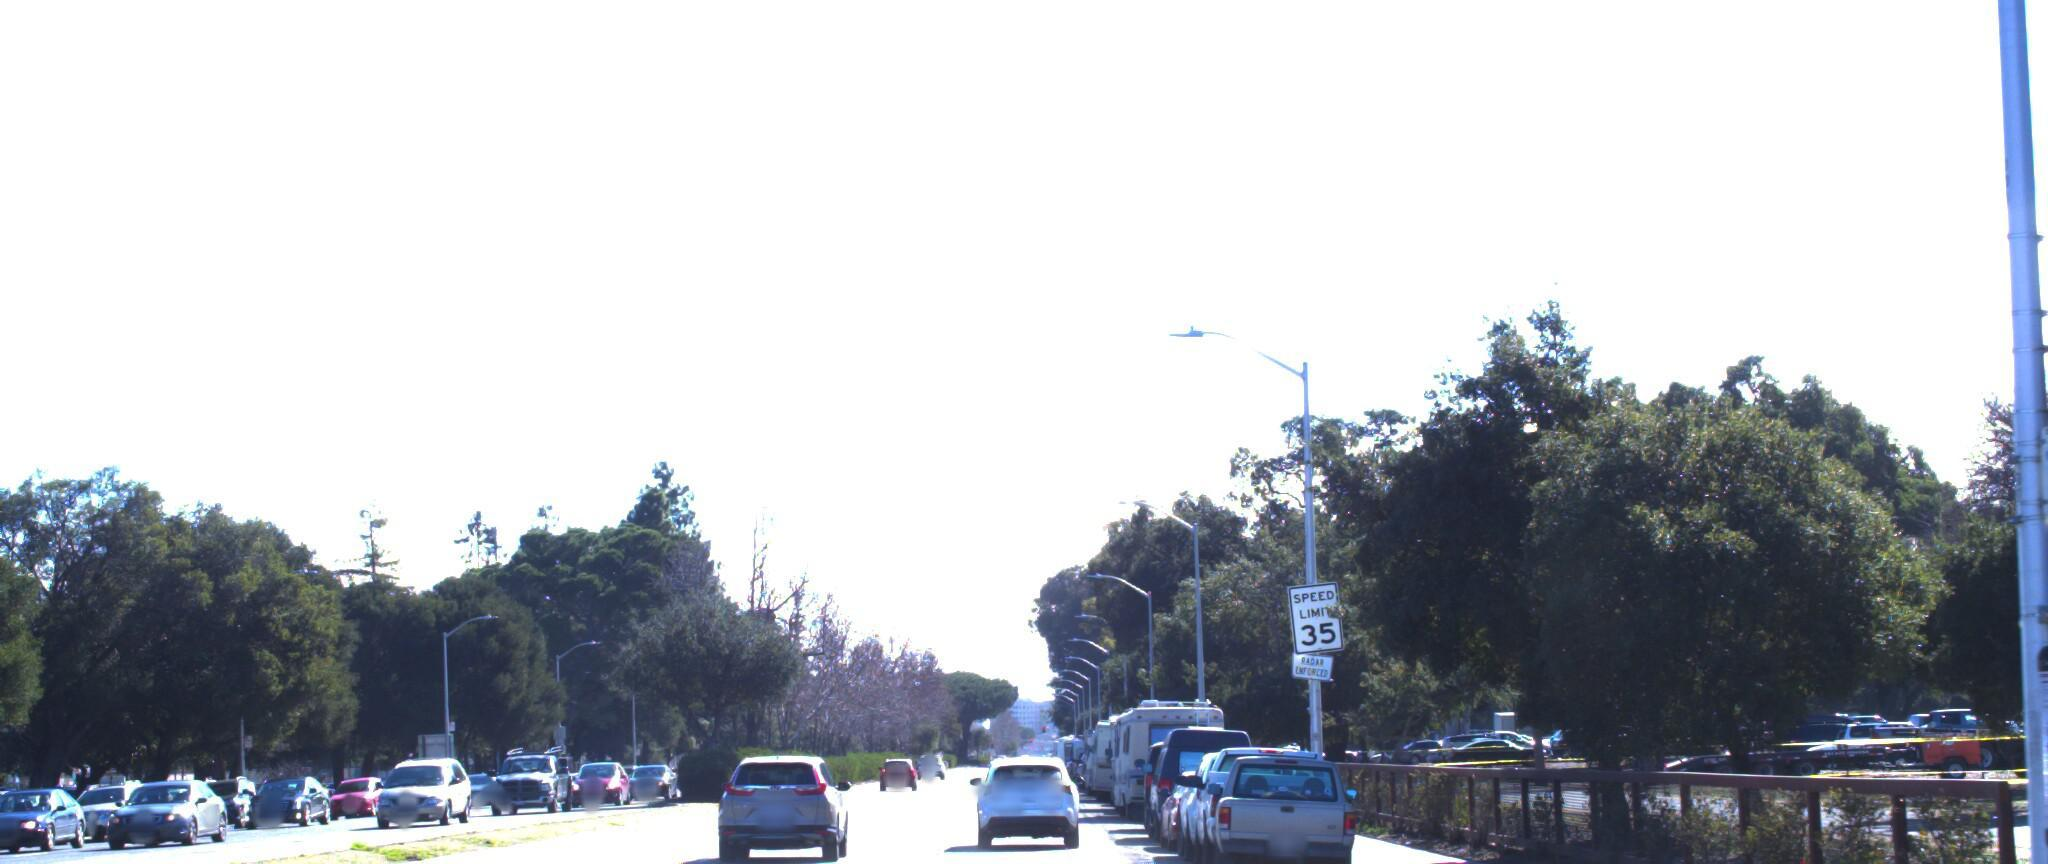car: (1166, 728, 1358, 864), (1189, 735, 1368, 864), (1123, 706, 1260, 835), (711, 744, 859, 861), (93, 765, 235, 838), (976, 744, 1083, 838), (370, 741, 481, 817), (0, 758, 10, 864)
other_vehicle: (1085, 683, 1225, 807)
